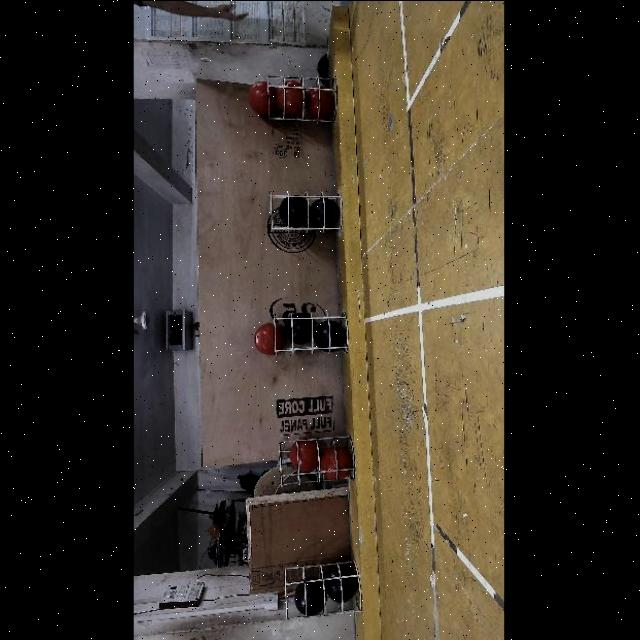P: (284, 311, 316, 343), (296, 580, 326, 614), (327, 566, 357, 600), (280, 195, 310, 228), (310, 198, 340, 228), (315, 322, 345, 352)
R: (321, 444, 353, 481), (254, 322, 286, 355), (276, 79, 306, 113), (248, 80, 278, 113), (292, 438, 320, 470), (306, 86, 332, 116)
S: (280, 556, 364, 620), (272, 432, 361, 490), (262, 75, 338, 128), (263, 188, 343, 232), (271, 308, 349, 352)
